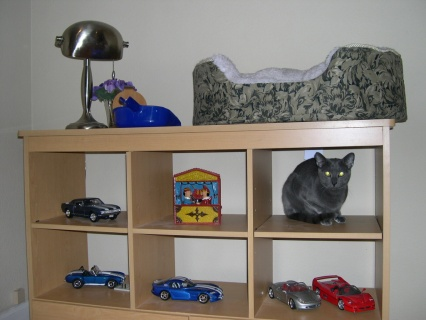Cat: (281, 152, 355, 225)
